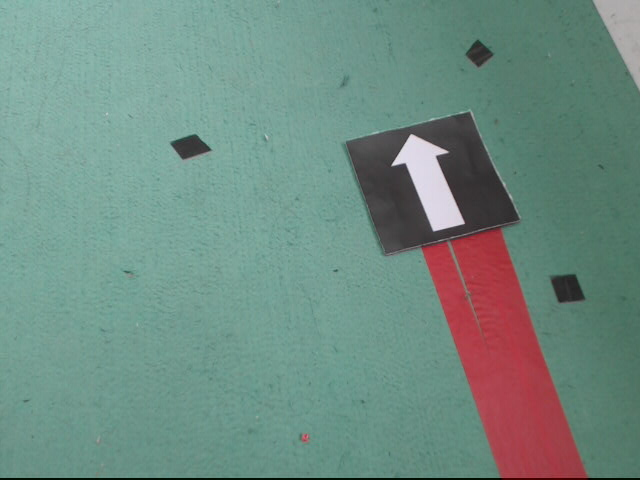straight: (345, 112, 516, 260)
